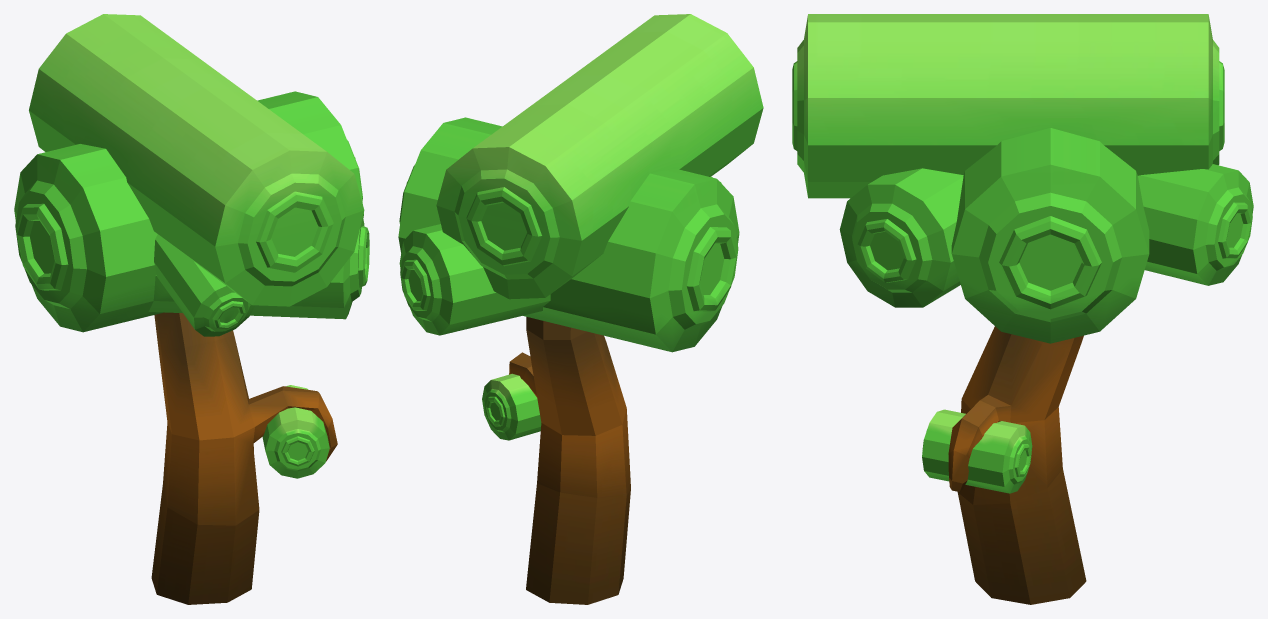
Rendered from quaternius-textured-fantasy-nature-bigtree.glb.
3 renders of one model, left to right at view 1: azimuth 30°, elevation 25°; view 2: azimuth 150°, elevation 25°; view 3: azimuth 270°, elevation 25°, orthographic. The views are drawn at different scales.
Parts seen in each view (by area): view 1: Cylinder.000; view 2: Cylinder.000; view 3: Cylinder.000.
Boxes of the visible parts, bbox=[...] form: Cylinder.000: bbox=[14, 14, 369, 604]; Cylinder.000: bbox=[398, 14, 763, 604]; Cylinder.000: bbox=[792, 14, 1253, 604].
Size of the model in its own units: 4.01 by 6.43 by 4.88.
Materials: 1 (1 with a texture image).
